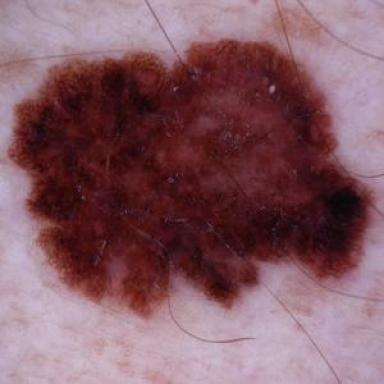Melanoma: (7, 37, 373, 315)
